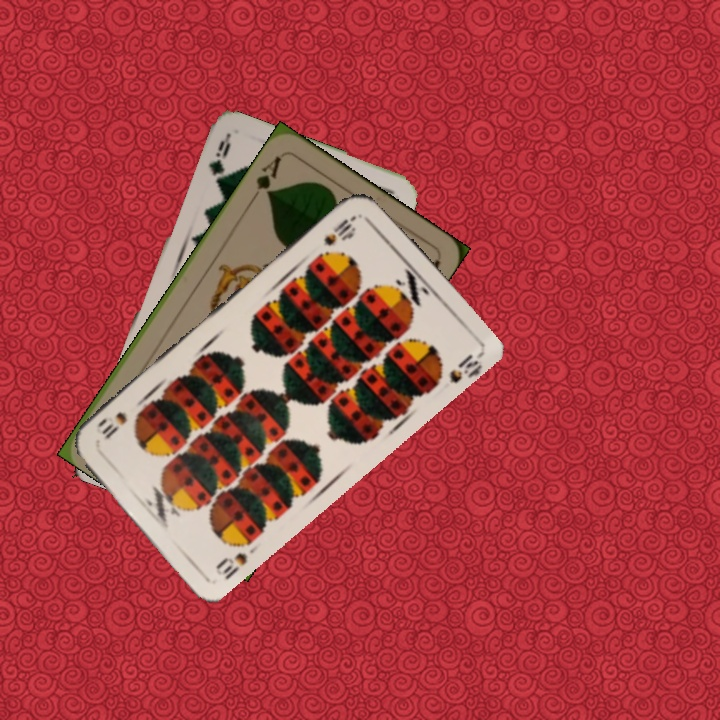G9: (204, 133, 232, 178)
GA: (246, 151, 285, 204)
S10: (319, 211, 359, 249), (212, 548, 250, 582)
